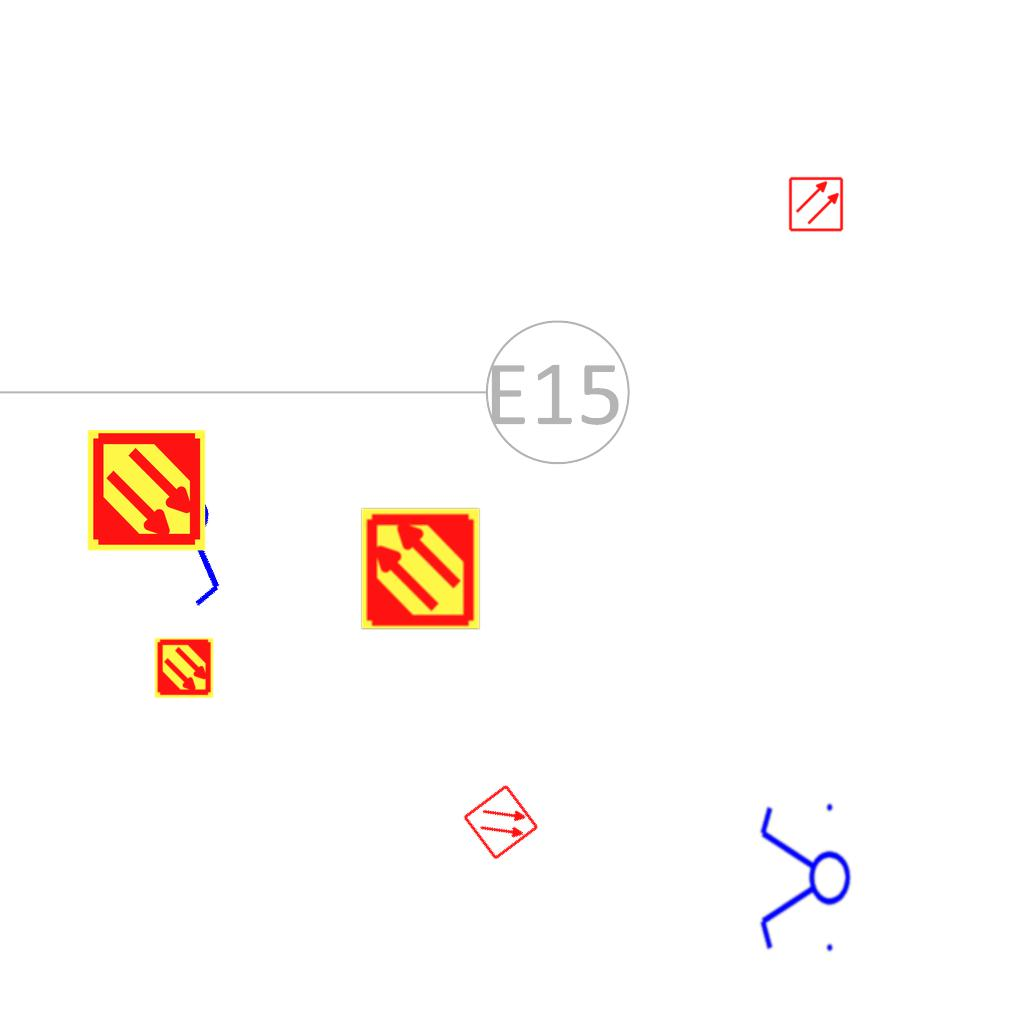ASR_Ansaugrauchmelder: (358, 506, 483, 631), (84, 428, 209, 553), (153, 637, 215, 699)
RMO_Rauchmelder_optischer: (461, 782, 541, 862), (788, 176, 844, 232)
Serienschalter: (756, 795, 852, 963)
Wechselschalter: (76, 419, 285, 631)
